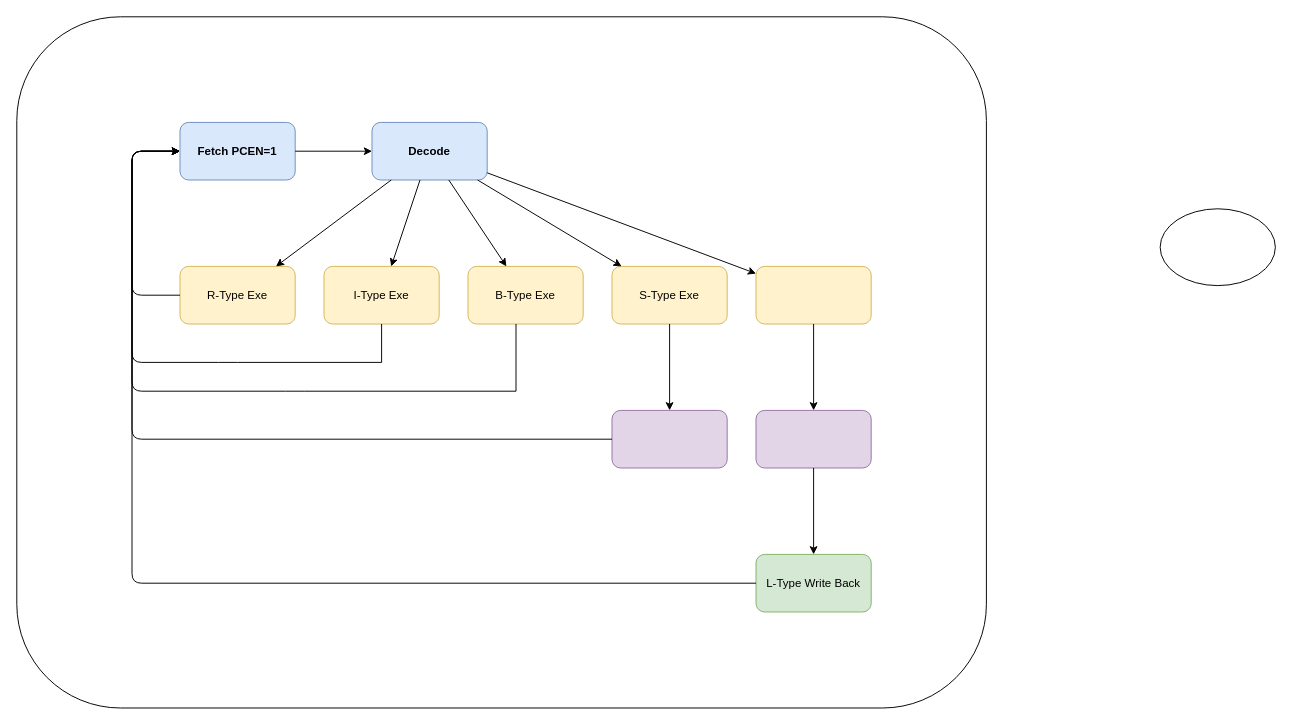
Image size: 1292x725. Some labels were removed from this diagram. Here are the shapes that lost their labels. From the top down, the centre of each, then its label:
At point 813,294: "L-Type Exe".
At point 669,438: "S-Type Mem Access".
At point 813,438: "L-Type Mem Acc".
